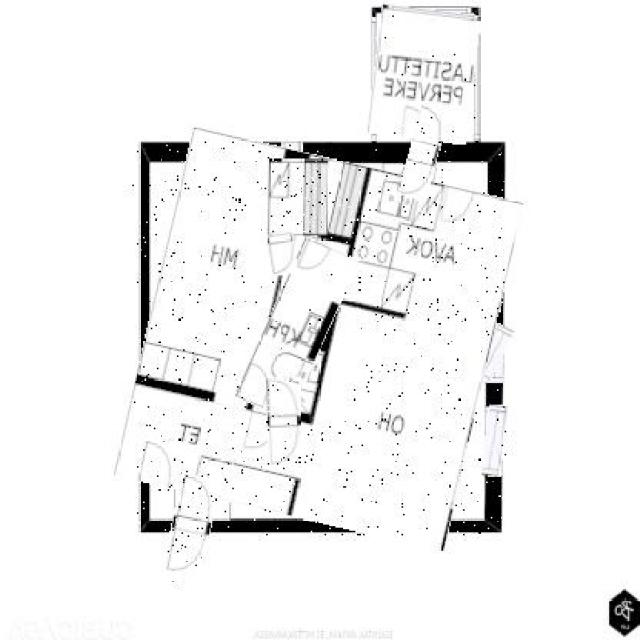door: (166, 475, 214, 583), (404, 104, 444, 198), (268, 377, 300, 465), (269, 234, 297, 274)
window: (478, 324, 509, 382), (483, 406, 506, 477), (485, 203, 506, 259), (192, 142, 238, 162), (280, 140, 302, 162)
zone: (132, 144, 505, 536), (251, 240, 343, 417), (372, 8, 477, 142), (268, 158, 328, 236)
